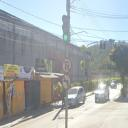NoVirarEsquerda: (62, 74, 71, 90)
NoVirarU: (62, 57, 71, 74)
